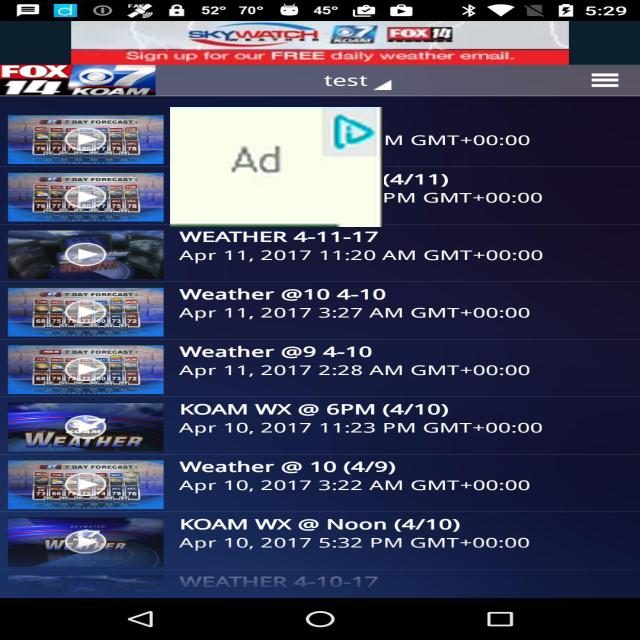sneaking: (170, 107, 384, 227)
